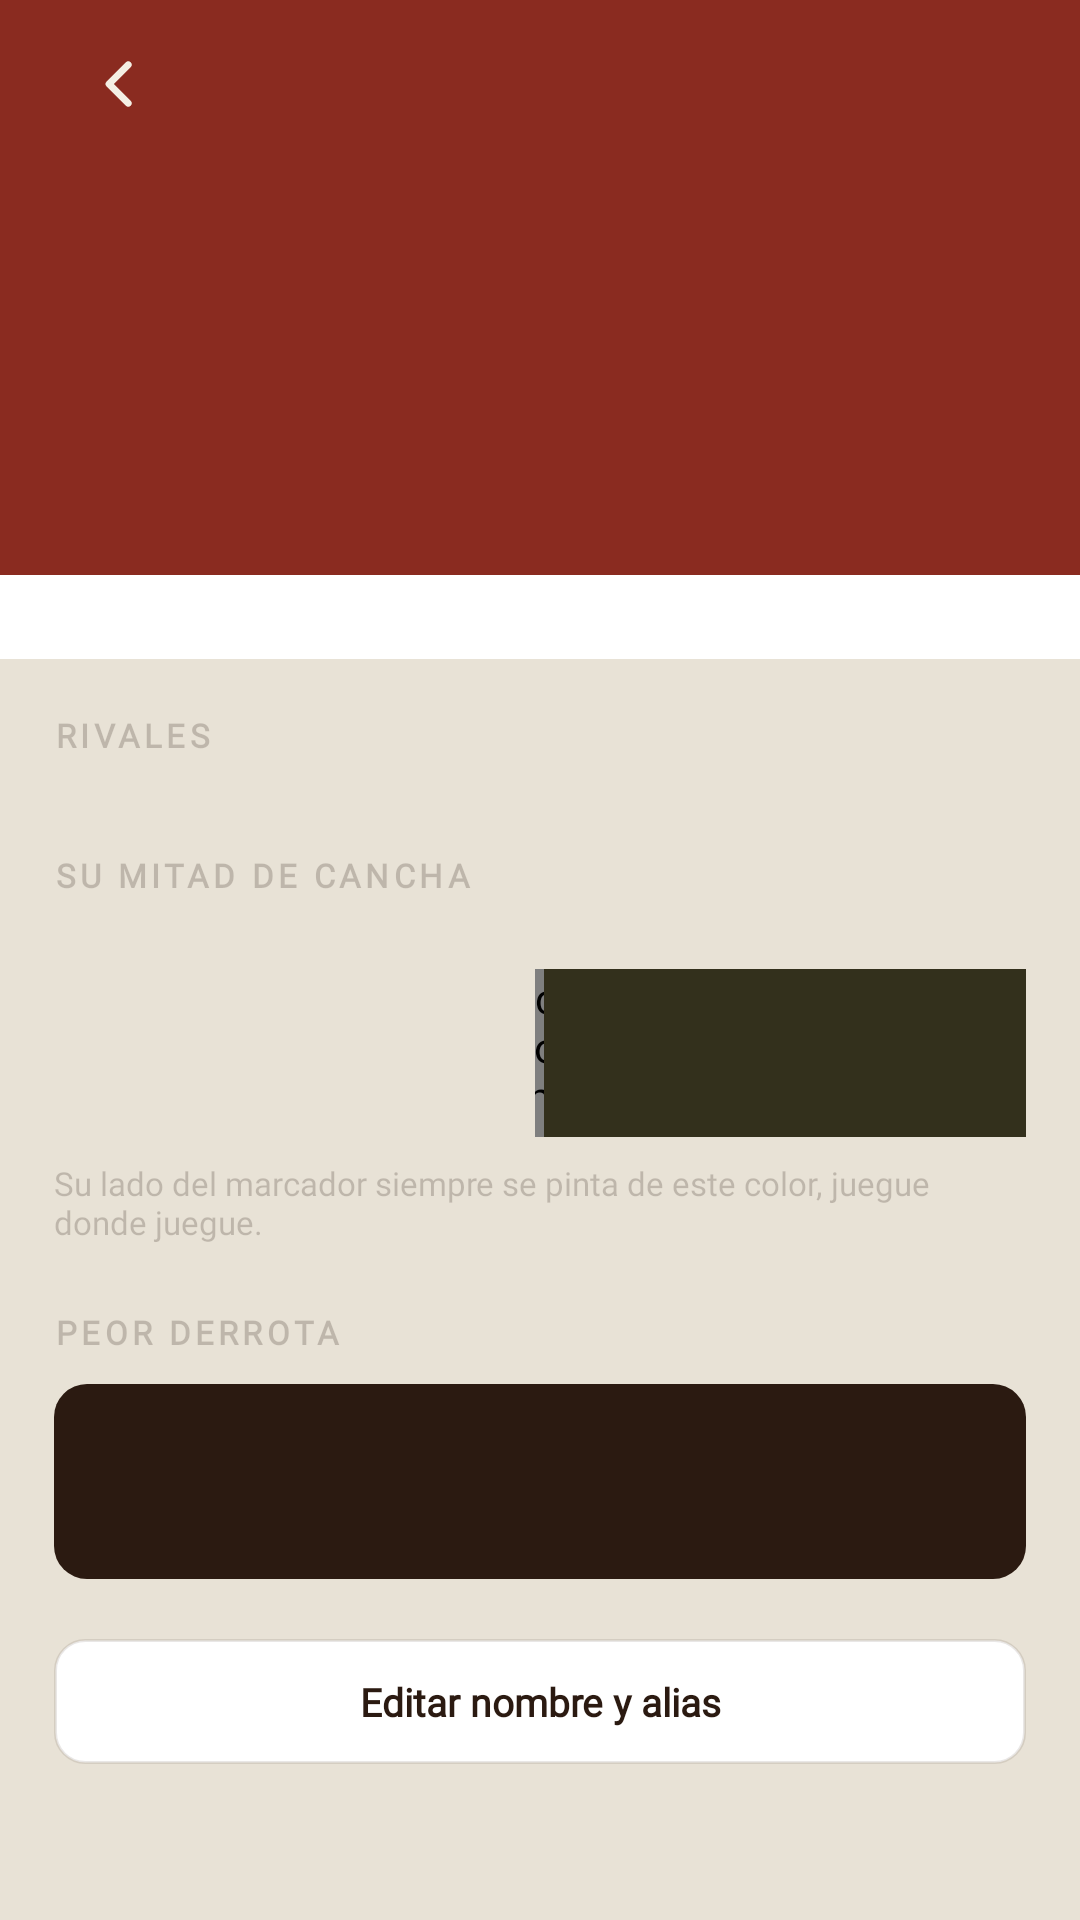

Icon bounding boxes for this 1080 × 1920 phone screenshot, format (x1, y1, x2, y2):
volver: (105, 61, 132, 107)
